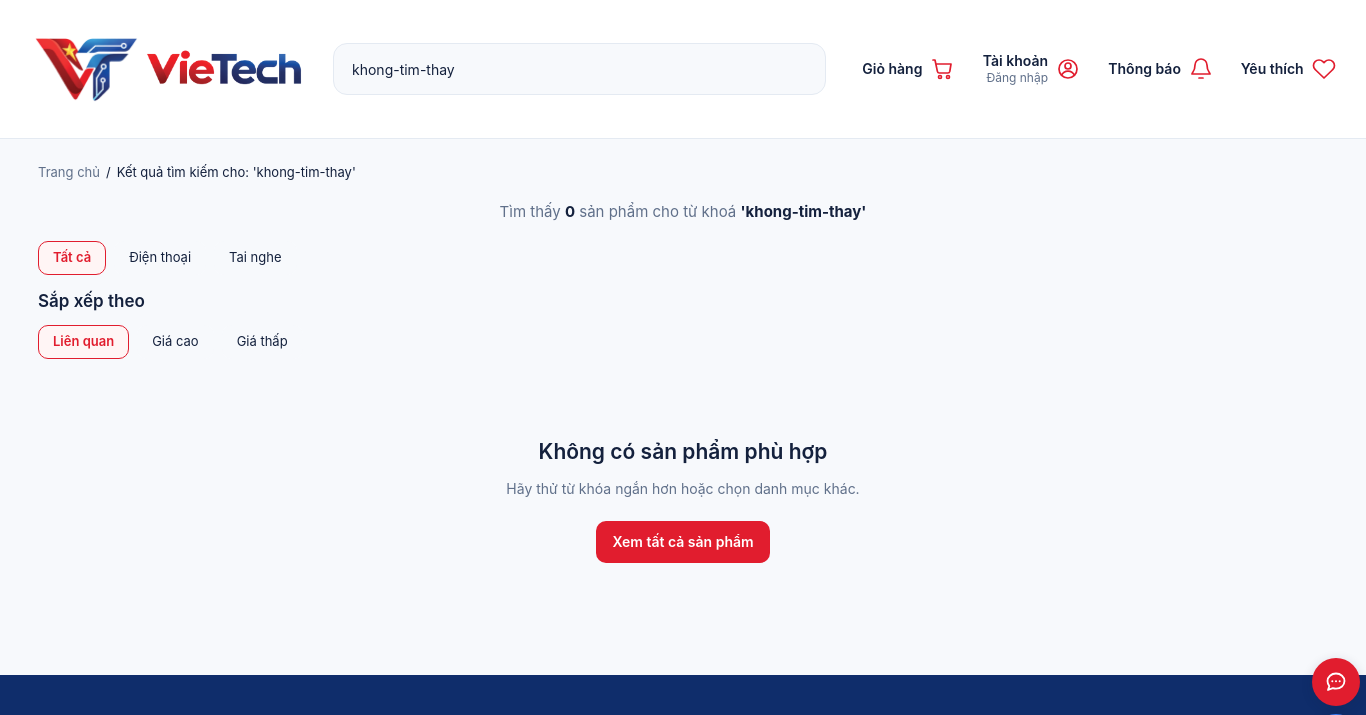
Test: empty results give a way to browse again
The image size is (1366, 715).
Expected: the heading "Không có sản phẩm phù hợp" is shown, 539,436 -> 827,466
Expected: the message reads "Tìm thấy 0 sản phẩm cho từ khoá 'khong-tim-thay'", 500,202 -> 866,220
Click the link "Xem tất cả sản phẩm".
click(683, 542)  # box 596,521 -> 770,563
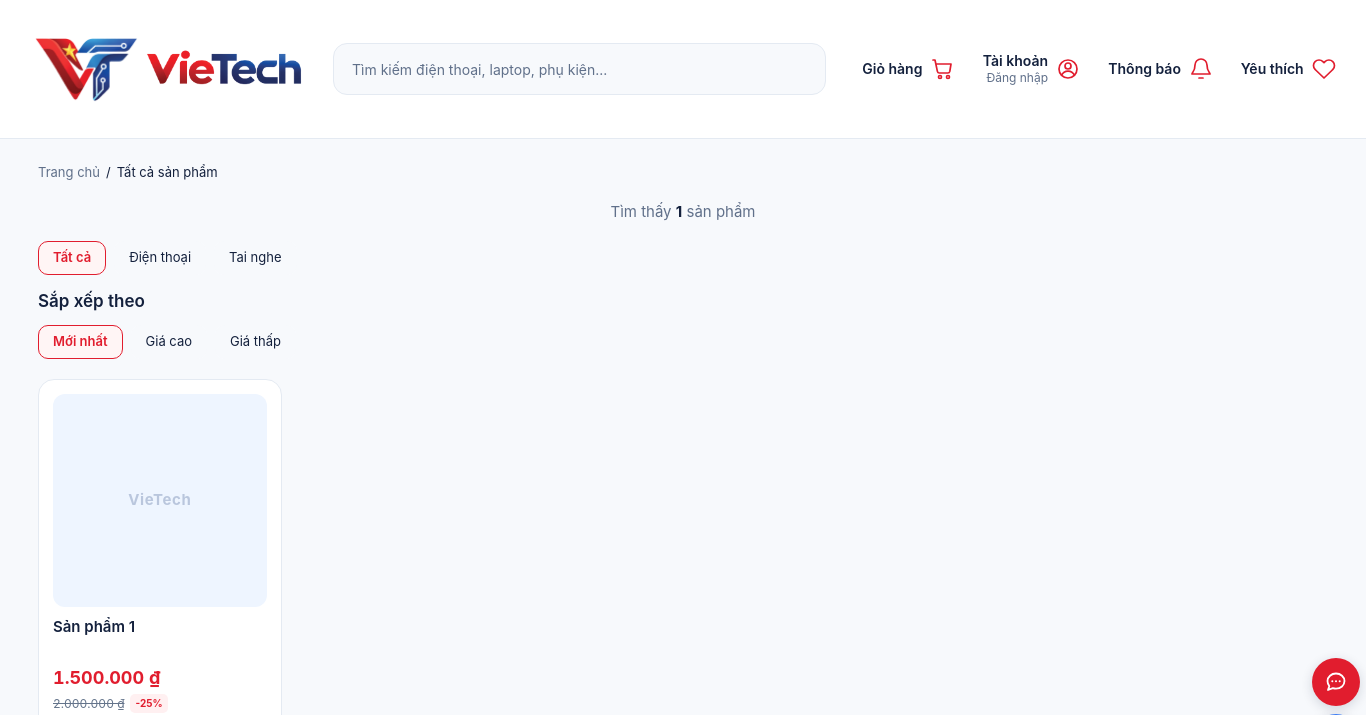
Result: the heading "Sản phẩm 1" is shown at 53,617 -> 135,636
Result: the message reads "Tìm thấy 1 sản phẩm" at 610,202 -> 756,220
Result: the search field is empty at 352,58 -> 807,80
